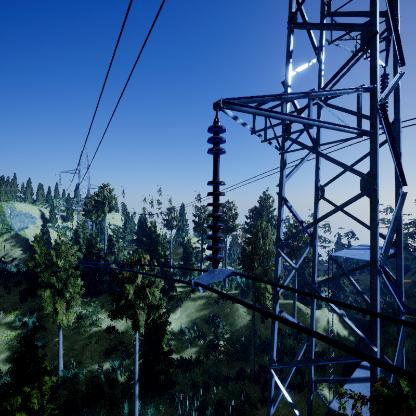insulator: (205, 123, 228, 270)
tower: (56, 144, 106, 247)
